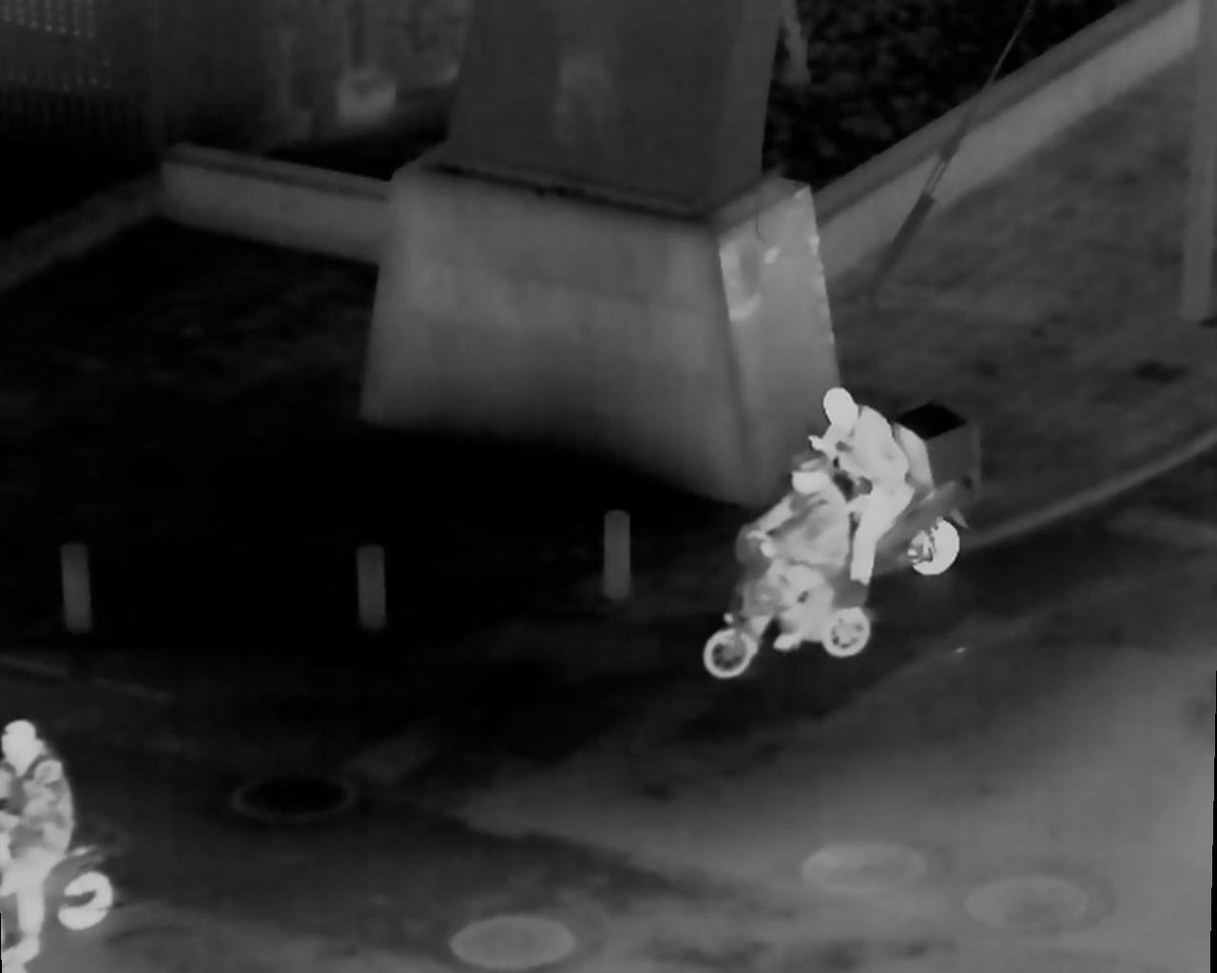person: (725, 452, 857, 663), (821, 383, 923, 587)
